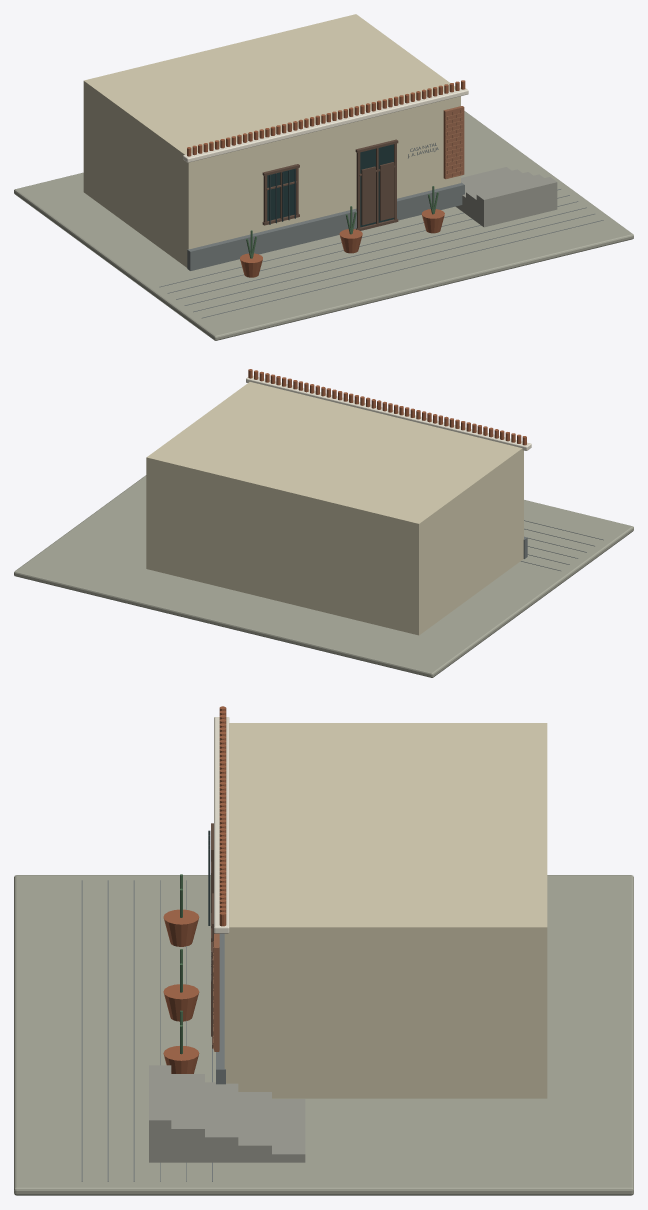
The model's file is gms-42.glb.
3 views of the same model, one above another, from view 1: azimuth 30°, elevation 25°; view 2: azimuth 150°, elevation 25°; view 3: azimuth 270°, elevation 25° (orthographic). The views are drawn at different scales.
Parts seen in each view (by area): view 1: Preserved Lavalleja birthplace in cultural courtyard, Context plinth, Grey lower wall plinth, Entry step, Visible red clay tile edge, Birthplace rectangular timber door jamb, Low cream cornice, Birthplace rectangular timber door recess, Exposed brick corner patch, Grilled birthplace window iron bar, Courtyard potted plant; view 2: Preserved Lavalleja birthplace in cultural courtyard, Context plinth, Visible red clay tile edge, Low cream cornice, Grey lower wall plinth; view 3: Preserved Lavalleja birthplace in cultural courtyard, Context plinth, Entry step, Visible red clay tile edge, Grey lower wall plinth, Low cream cornice, Exposed brick corner patch.
Part boxes in pixels (x1,y1,x2,y2): Preserved Lavalleja birthplace in cultural courtyard: [83, 14, 460, 267]; Context plinth: [14, 111, 633, 340]; Grey lower wall plinth: [159, 142, 603, 318]; Entry step: [456, 167, 557, 227]; Visible red clay tile edge: [187, 80, 465, 277]; Birthplace rectangular timber door jamb: [262, 139, 398, 230]; Low cream cornice: [183, 87, 468, 162]; Birthplace rectangular timber door recess: [267, 144, 393, 227]; Exposed brick corner patch: [443, 106, 464, 179]; Grilled birthplace window iron bar: [269, 169, 295, 224]; Courtyard potted plant: [246, 186, 438, 258]; Preserved Lavalleja birthplace in cultural courtyard: [146, 382, 523, 635]; Context plinth: [14, 475, 633, 677]; Visible red clay tile edge: [248, 369, 526, 445]; Low cream cornice: [246, 375, 531, 450]; Grey lower wall plinth: [521, 520, 603, 570]; Preserved Lavalleja birthplace in cultural courtyard: [224, 723, 547, 1098]; Context plinth: [14, 875, 633, 1195]; Entry step: [149, 1065, 305, 1162]; Visible red clay tile edge: [163, 706, 226, 1073]; Grey lower wall plinth: [81, 880, 225, 1181]; Low cream cornice: [214, 717, 229, 933]; Exposed brick corner patch: [214, 933, 219, 1051].
Bounding box in the file's own units: 12 × 3.66 × 10.
